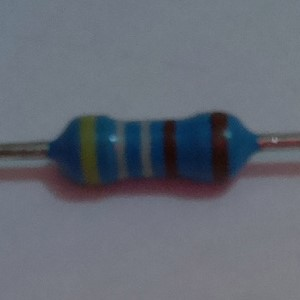brown_band: (208, 110, 232, 184), (161, 116, 180, 181)
white_band: (138, 117, 154, 182), (114, 117, 129, 184)
yellow_band: (78, 113, 101, 189)
